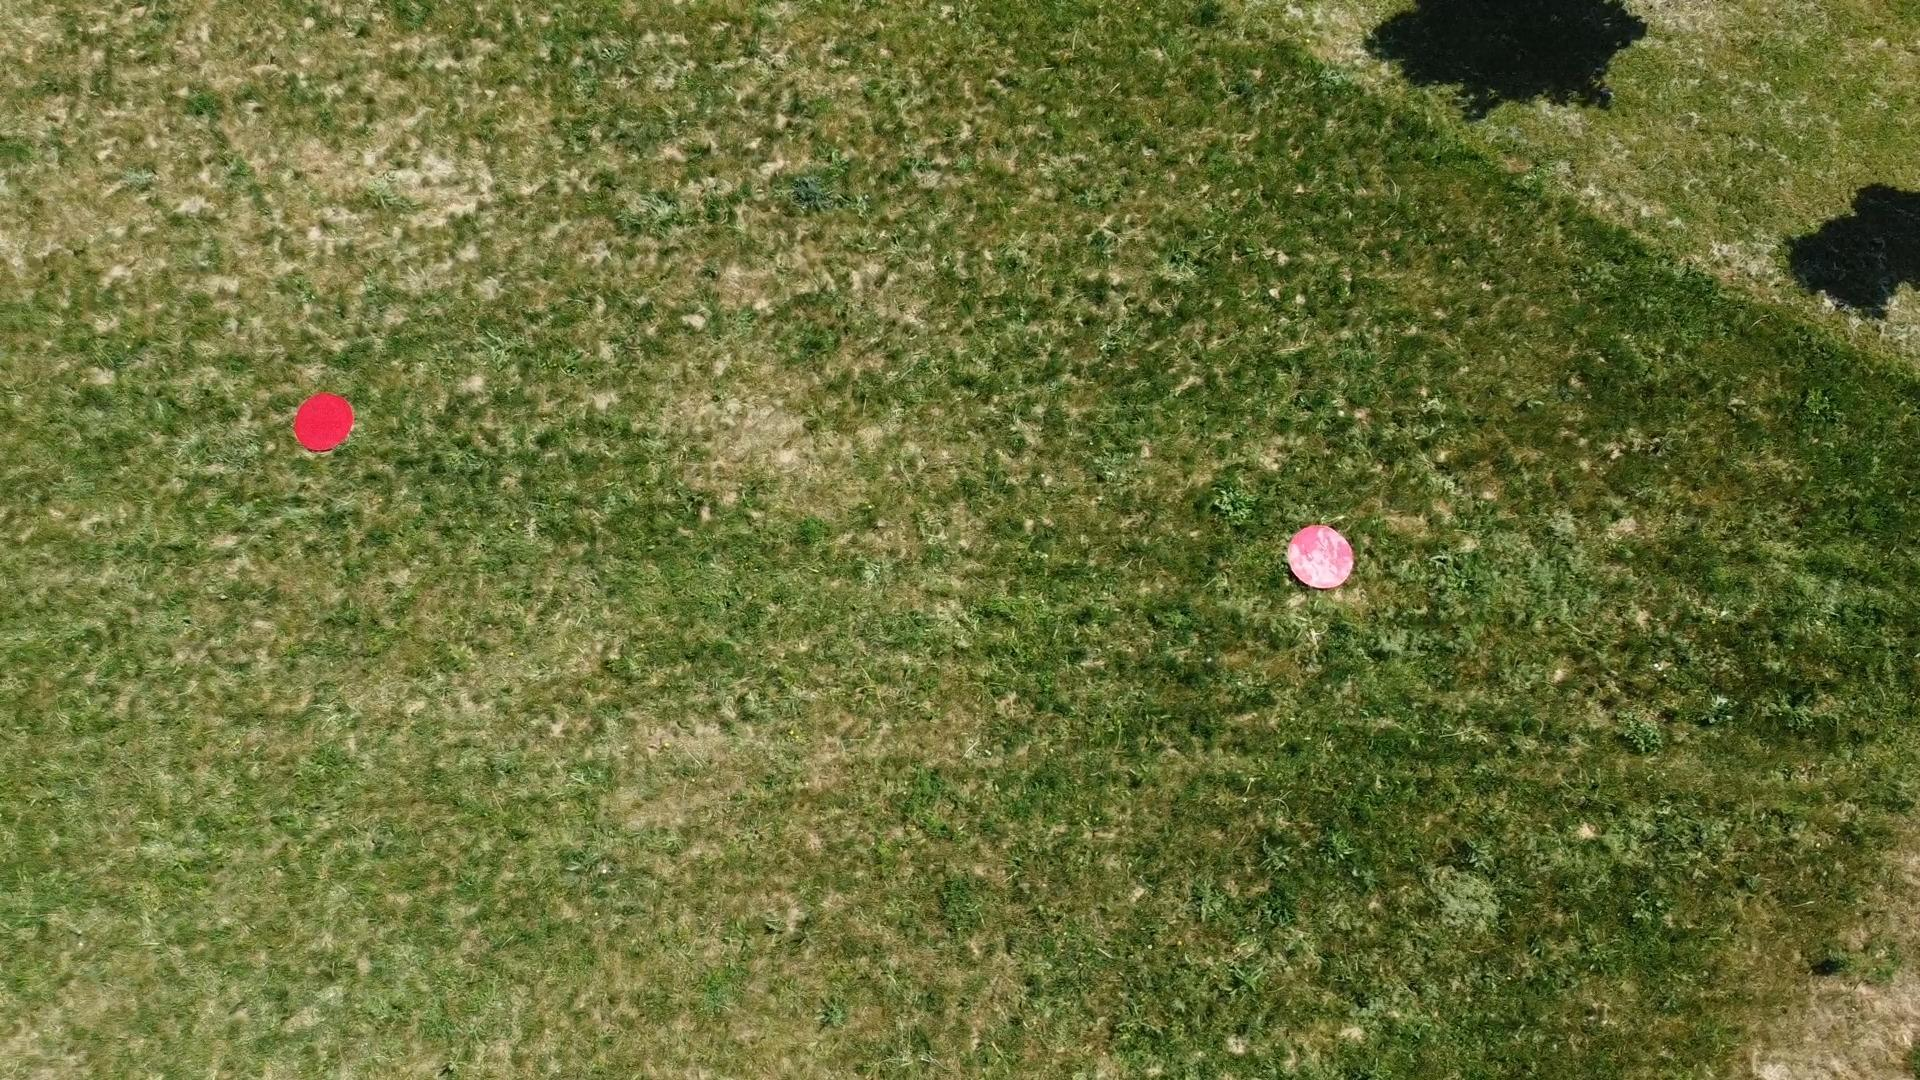Red: (1287, 524, 1361, 589), (290, 392, 356, 455)
